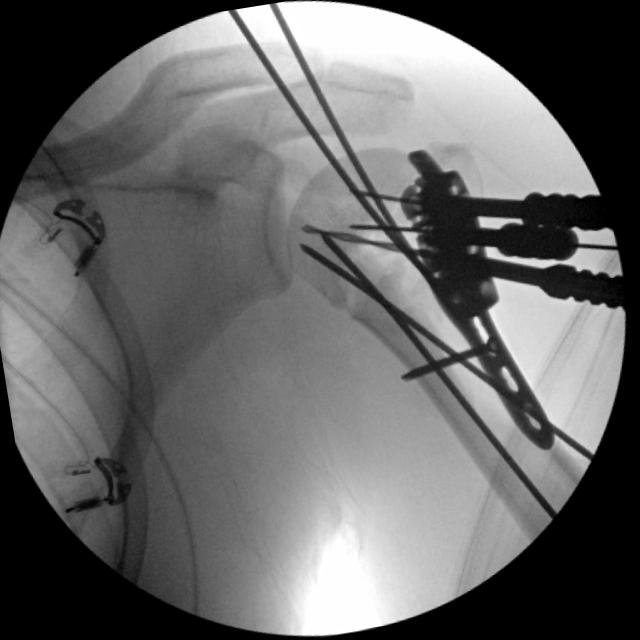shoulder fracture: (291, 13, 383, 120), (309, 272, 402, 359)
